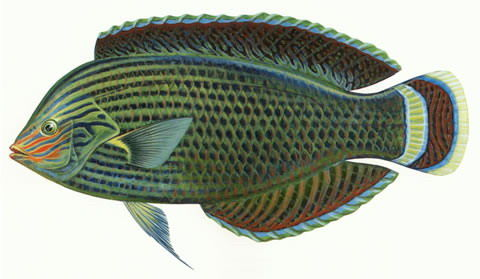fish: (9, 10, 470, 271)
